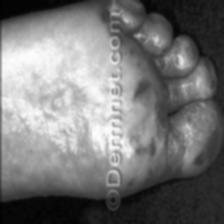Non-Cancerous Skin Condition: (166, 99, 204, 162), (122, 129, 156, 159), (130, 80, 148, 100)
